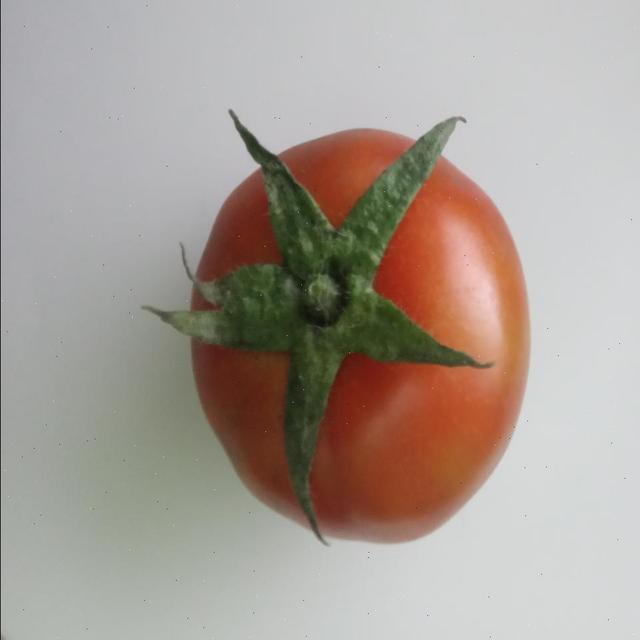Healthy Fruit: (115, 79, 364, 371)
